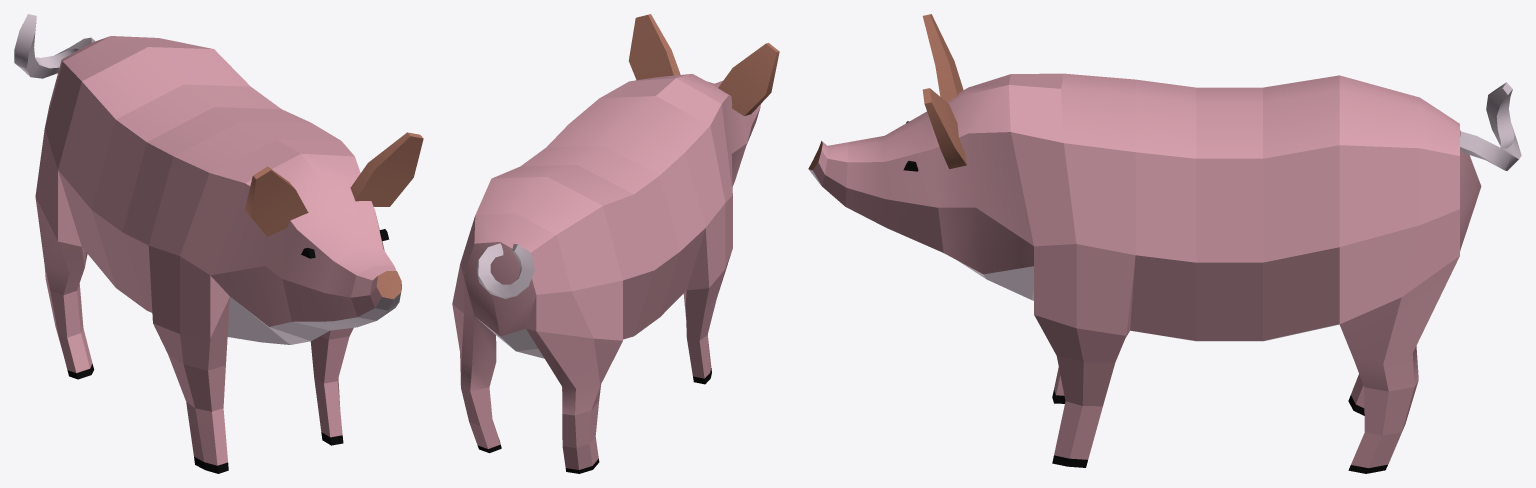
The model's file is Mesh_Pig.gltf.
3 renders of one model, left to right at view 1: azimuth 30°, elevation 25°; view 2: azimuth 150°, elevation 25°; view 3: azimuth 270°, elevation 25°, orthographic. The views are drawn at different scales.
Visible parts, largest first — view 1: node-0; view 2: node-0; view 3: node-0.
Part boxes in pixels (x1,y1,x2,y2): node-0: [14, 14, 423, 473]; node-0: [452, 14, 779, 473]; node-0: [808, 14, 1521, 473].
Bounding box in the file's own units: 53.81 × 98.57 × 164.
1 material, 1 textured.
